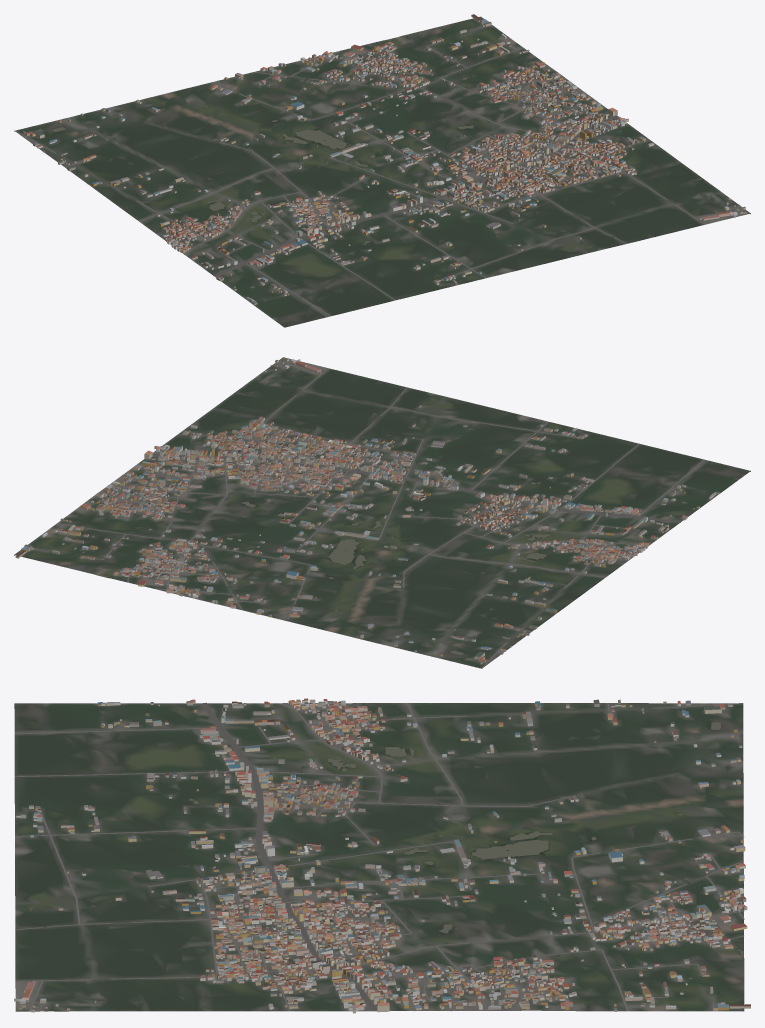
3 renders of one model, top to bottom at view 1: azimuth 30°, elevation 25°; view 2: azimuth 150°, elevation 25°; view 3: azimuth 270°, elevation 25°, orthographic. The views are drawn at different scales.
Visible parts, largest first — view 1: ground, buildings, roads, water; view 2: ground, buildings, roads, water; view 3: ground, buildings, roads, water.
Boxes of the visible parts, box(x1,y1,x2,y2) form: ground: box(14, 16, 750, 327); buildings: box(22, 14, 746, 304); roads: box(14, 40, 745, 316); water: box(52, 37, 473, 288); ground: box(14, 357, 750, 668); buildings: box(15, 357, 719, 664); roads: box(57, 361, 704, 668); water: box(82, 482, 686, 655); ground: box(14, 703, 744, 1011); buildings: box(14, 698, 750, 1013); roads: box(14, 702, 744, 1011); water: box(145, 713, 743, 979).
Bounding box in the file's own units: 1418 × 24.6 × 1418.
